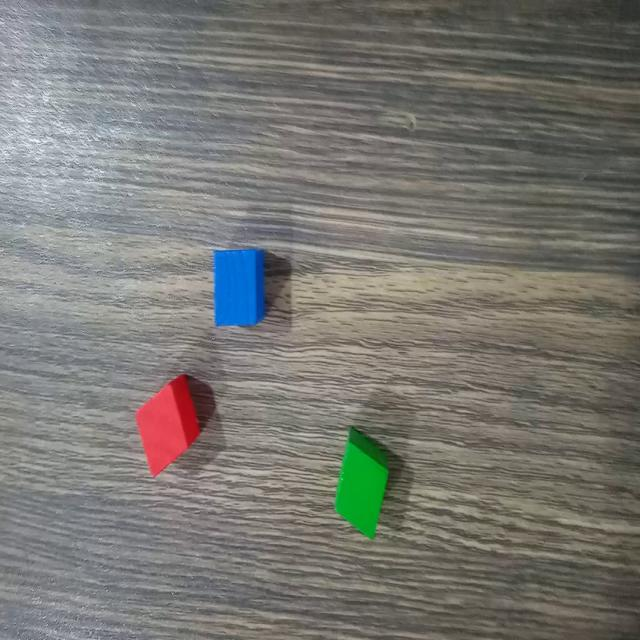cube: (134, 370, 202, 482), (331, 421, 391, 545), (210, 244, 268, 331)
